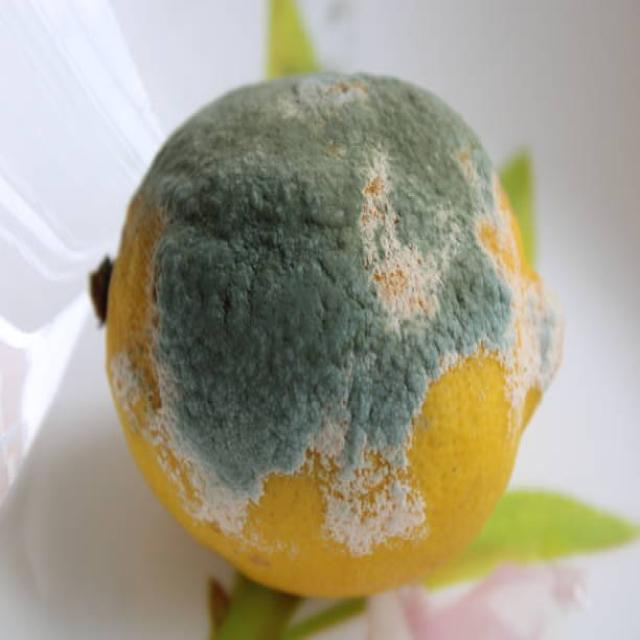Rotten: (89, 68, 564, 599)
